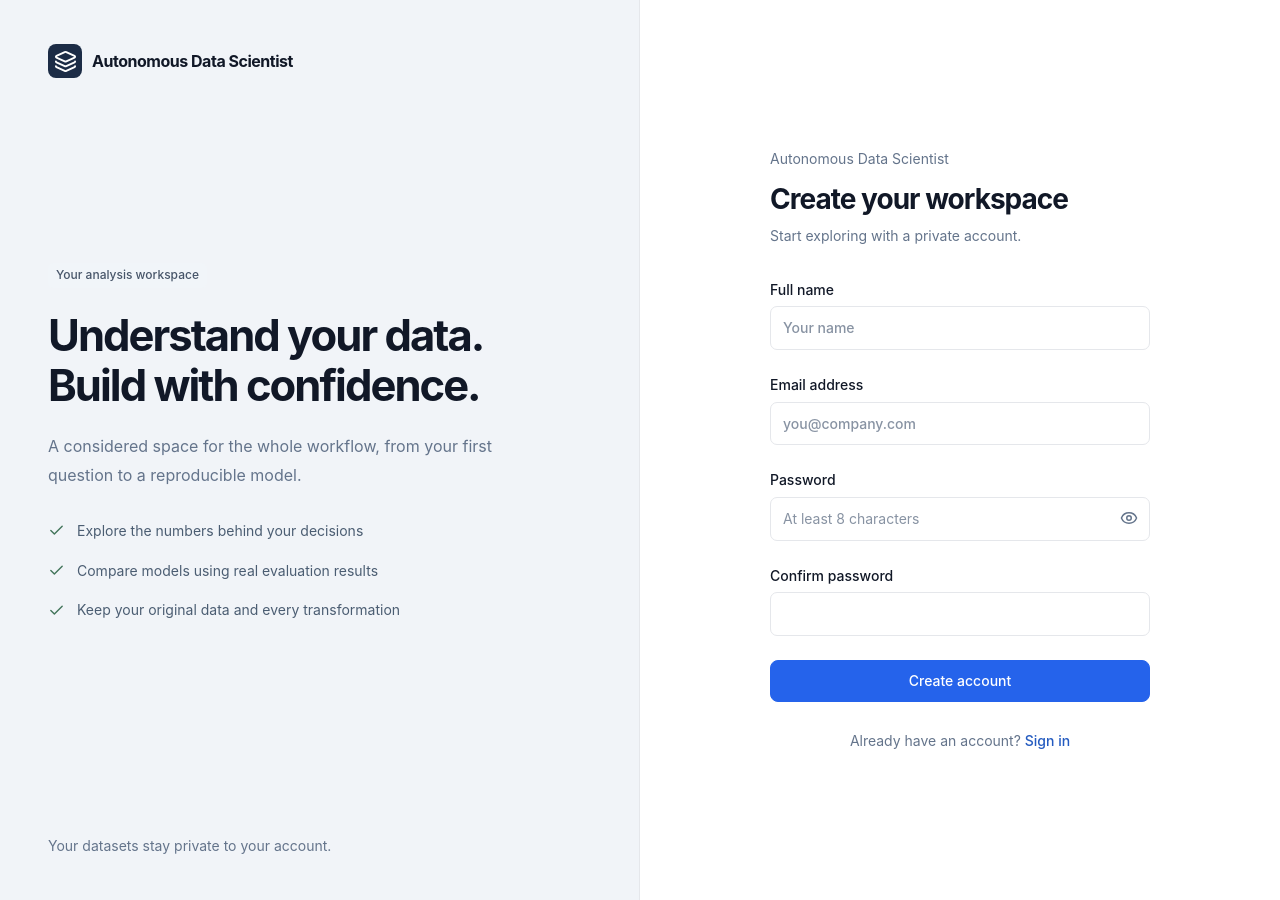
Test case: Authentication › validates mismatched registration passwords
Type "password1" into the password field labelled "Password" at x=960, y=519, box [770,497,1150,541]
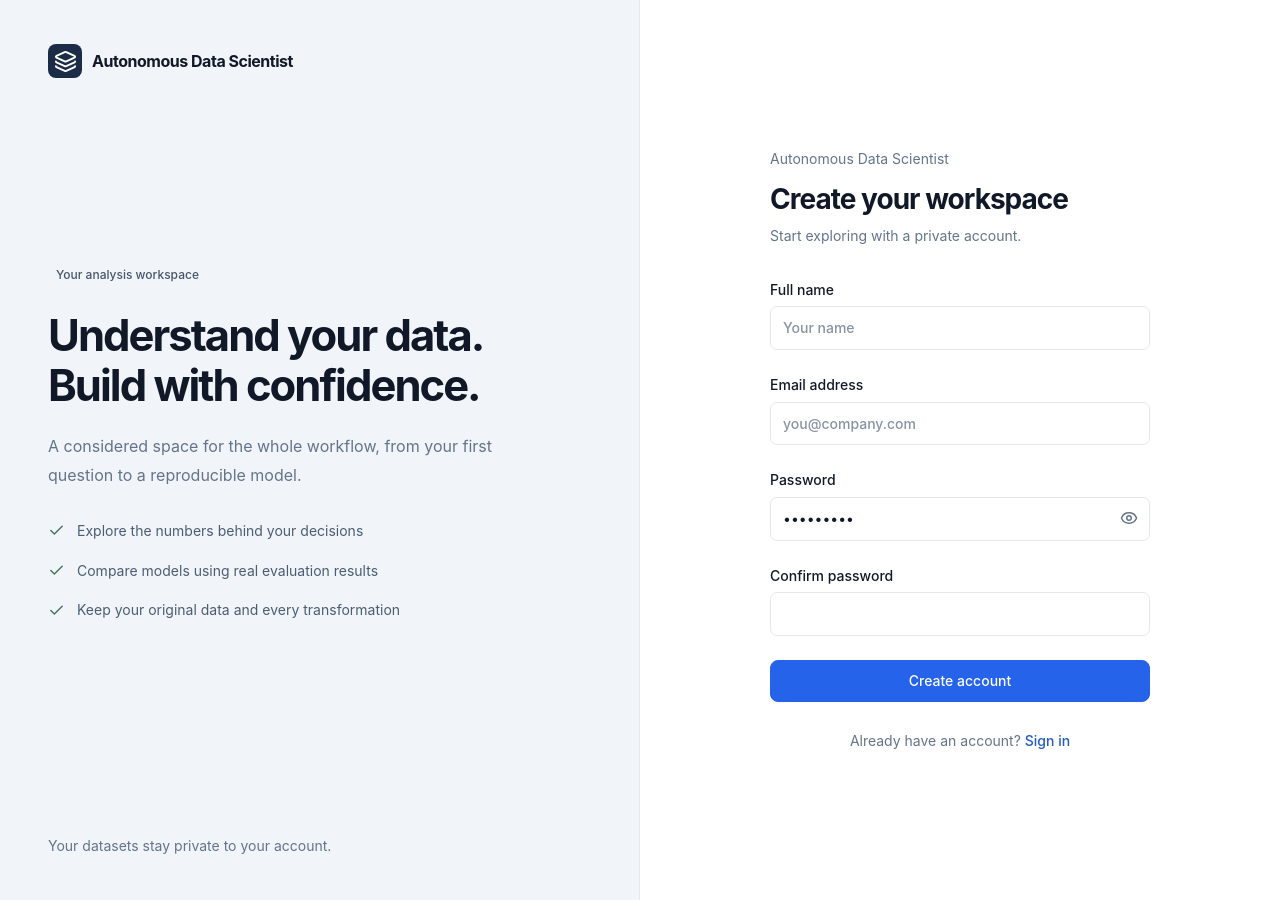
Type "password2" into the password field labelled "Confirm password" at x=960, y=614, box [770,592,1150,636]
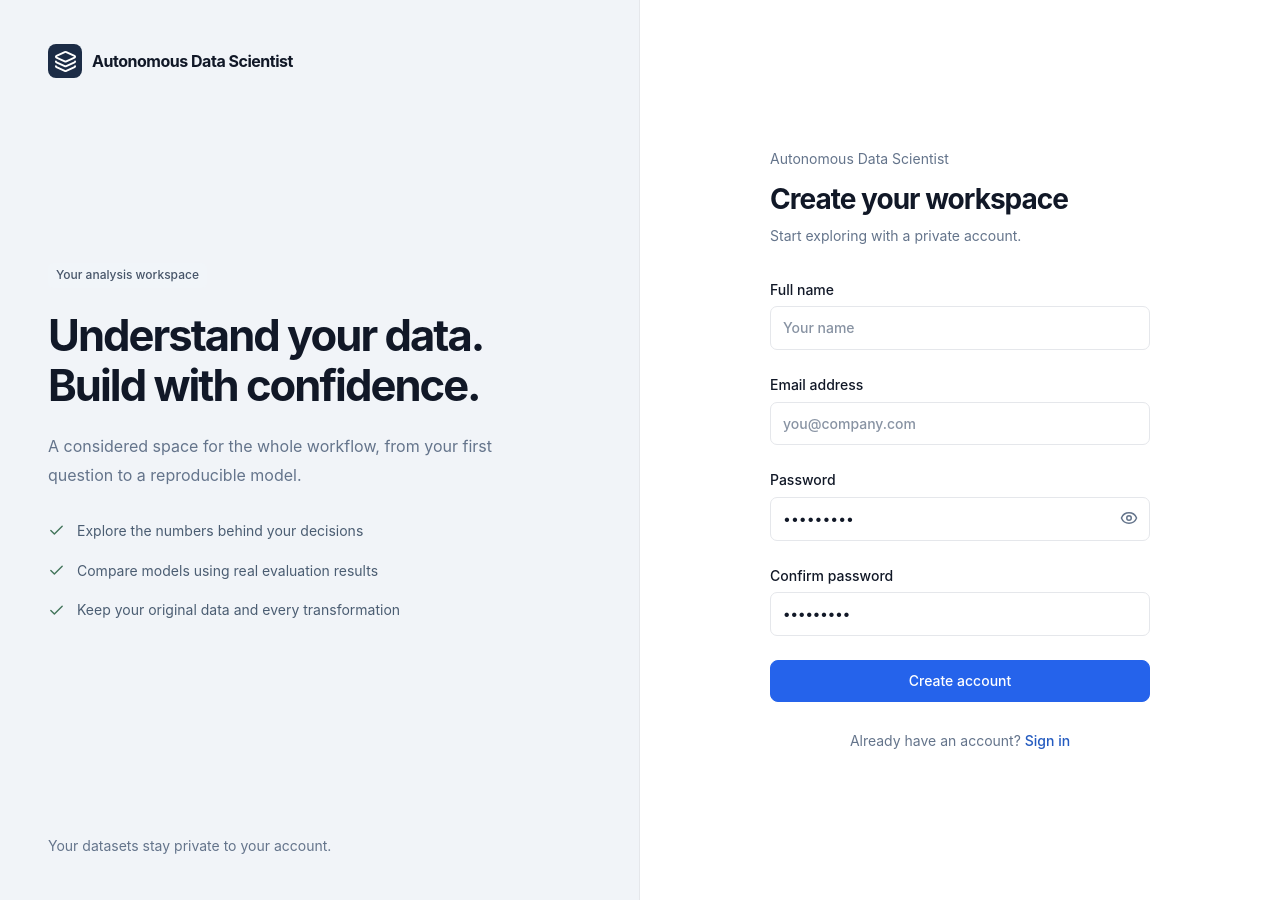
Submit the form "Create account", box [770,279,1150,702]
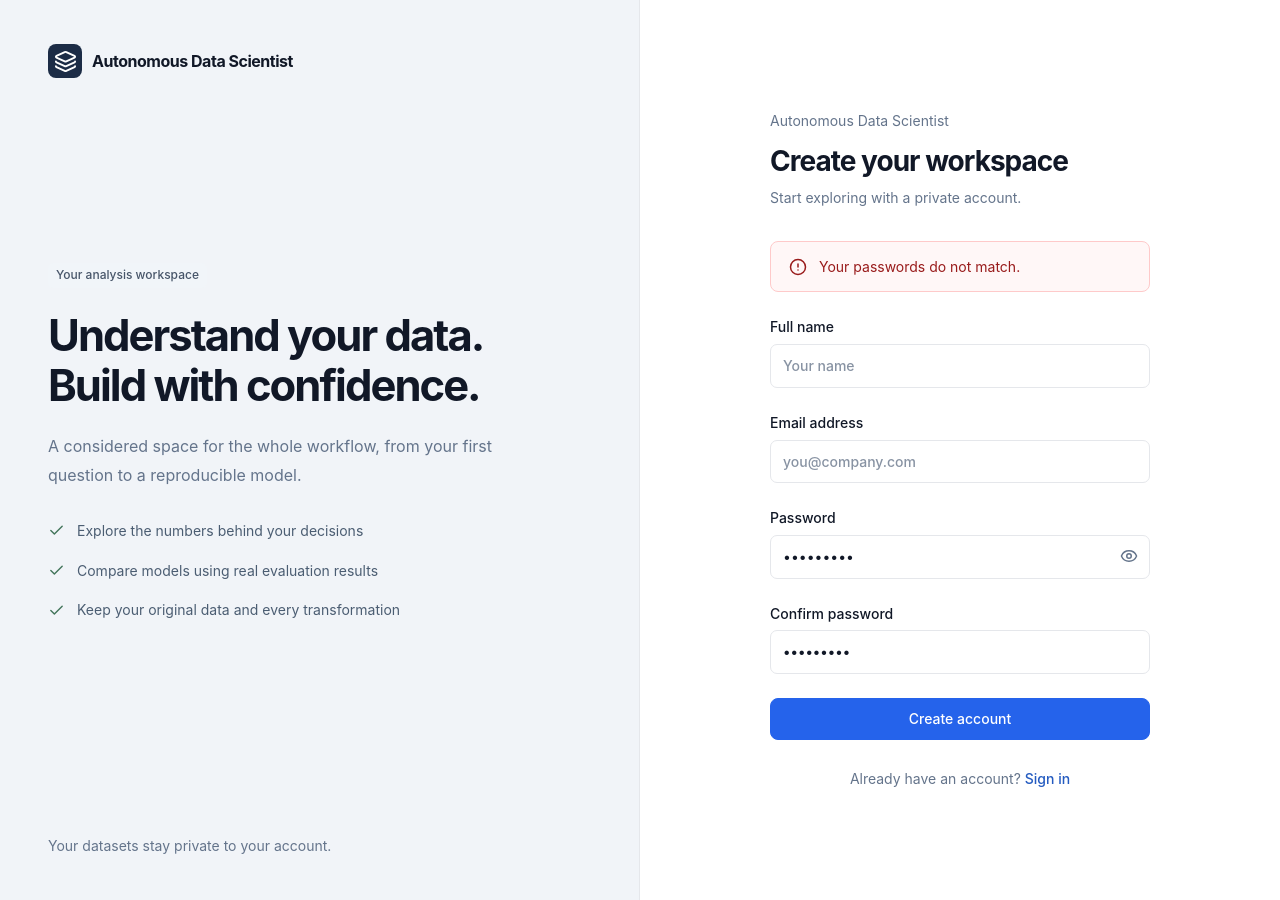
Result: the message shows "do not match" at [819,258,1020,275]
